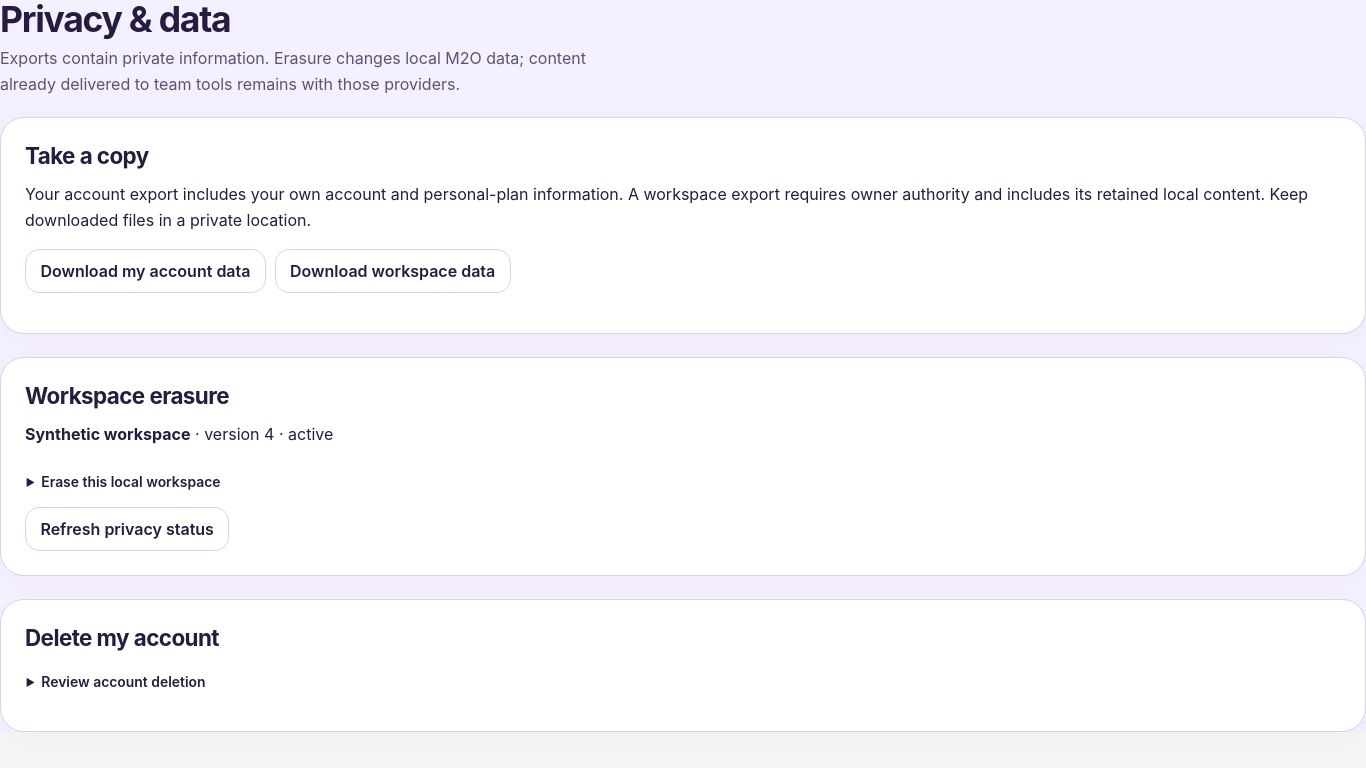
requests a private JSON export without any mutation
The width and height of the screenshot is (1366, 768).
Click the button "Download my account data": coordinates (145, 271) [25,249,266,293]
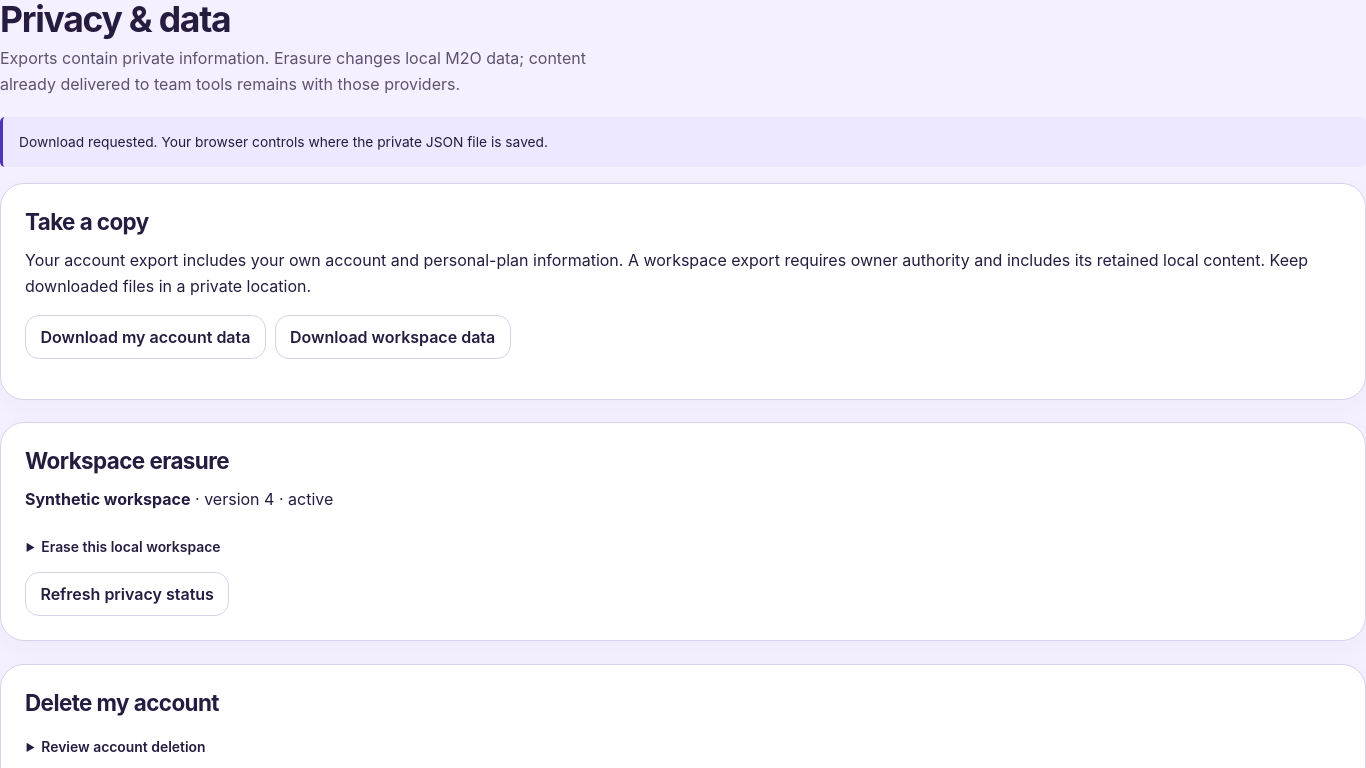
Expected: the text "Download requested" is shown, [19,134,548,150]
